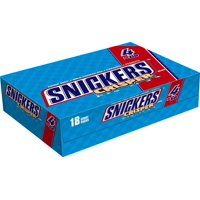snickers: (47, 60, 152, 101), (47, 60, 151, 101), (47, 61, 151, 101), (104, 89, 159, 119), (4, 84, 39, 114)
